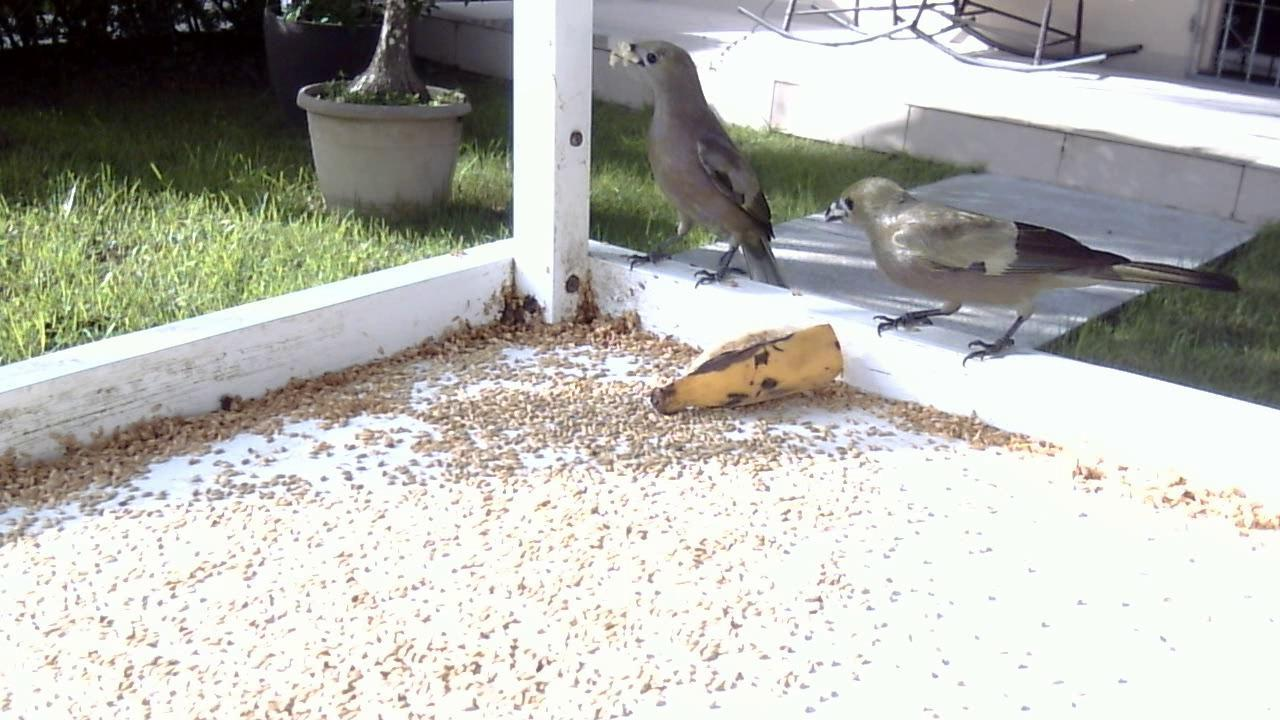sanhaco_do_coqueiro: (818, 163, 1254, 382), (600, 23, 802, 302)
